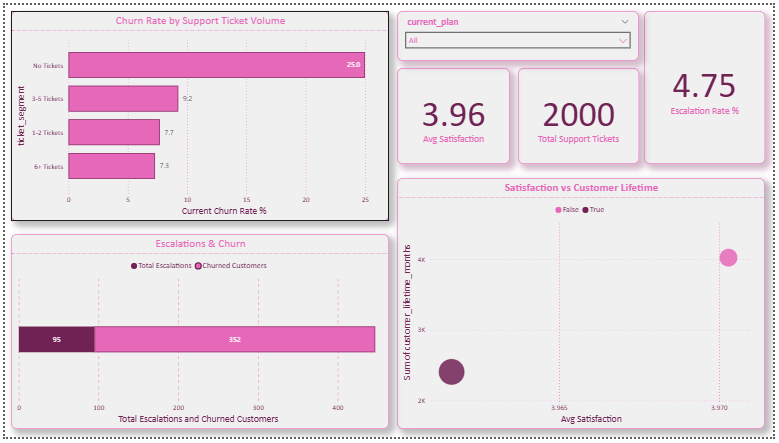

Layout of this report page (visuals, bound fields, positions):
{"tool":"powerbi","page":{"name":"Support Impact Analysis","canvas":[1280,720],"ordinal":2},"visuals":[{"type":"clusteredBarChart","title":"Churn Rate by Support Ticket Volume","fields":{"Category":["ravenstack_master_analysis_final.ticket_segment"],"Y":["ravenstack_master_analysis_final.Current Churn Rate %"]},"box":[10,10,630,350],"z":0},{"type":"scatterChart","title":"Satisfaction vs Customer Lifetime","fields":{"X":["ravenstack_master_analysis_final.Avg Satisfaction"],"Y":["Sum(ravenstack_master_analysis_final.customer_lifetime_months)"],"Size":["Sum(ravenstack_master_analysis_final.total_tickets)"],"Series":["ravenstack_master_analysis_final.has_churned"]},"box":[653.3,288.3,613.3,418.3],"z":1000},{"type":"barChart","title":"Escalations & Churn","fields":{"Y":["ravenstack_master_analysis_final.Total Escalations","ravenstack_master_analysis_final.Churned Customers"]},"box":[10,381.7,630,325],"z":2000},{"type":"card","fields":{"Values":["ravenstack_master_analysis_final.Avg Satisfaction"]},"box":[653.3,105,188.3,160],"z":3000},{"type":"card","fields":{"Values":["ravenstack_master_analysis_final.Total Support Tickets"]},"box":[855,105,201.7,160],"z":4000},{"type":"card","fields":{"Values":["ravenstack_master_analysis_final.Escalation Rate %"]},"box":[1065,10,201.7,255],"z":5000},{"type":"slicer","fields":{"Values":["ravenstack_master_analysis_final.current_plan"]},"box":[653.3,10,403.3,83.3],"z":6000}]}

Visuals, with their boxes in screenshot pixels (x1, y1, x2, y2), scaled from the page's 1280x720 canvas onto the 779x443 screenshot:
"Churn Rate by Support Ticket Volume" clusteredBarChart: BBox(6, 6, 390, 222)
"Satisfaction vs Customer Lifetime" scatterChart: BBox(398, 177, 771, 435)
"Escalations & Churn" barChart: BBox(6, 235, 390, 435)
card - ravenstack_master_analysis_final.Avg Satisfaction: BBox(398, 65, 512, 163)
card - ravenstack_master_analysis_final.Total Support Tickets: BBox(520, 65, 643, 163)
card - ravenstack_master_analysis_final.Escalation Rate %: BBox(648, 6, 771, 163)
slicer - ravenstack_master_analysis_final.current_plan: BBox(398, 6, 643, 57)
